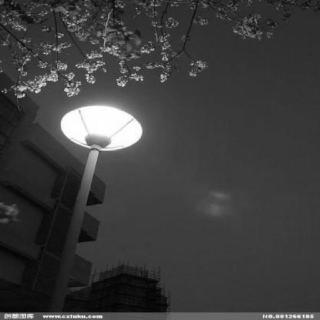other: (48, 101, 166, 156)
